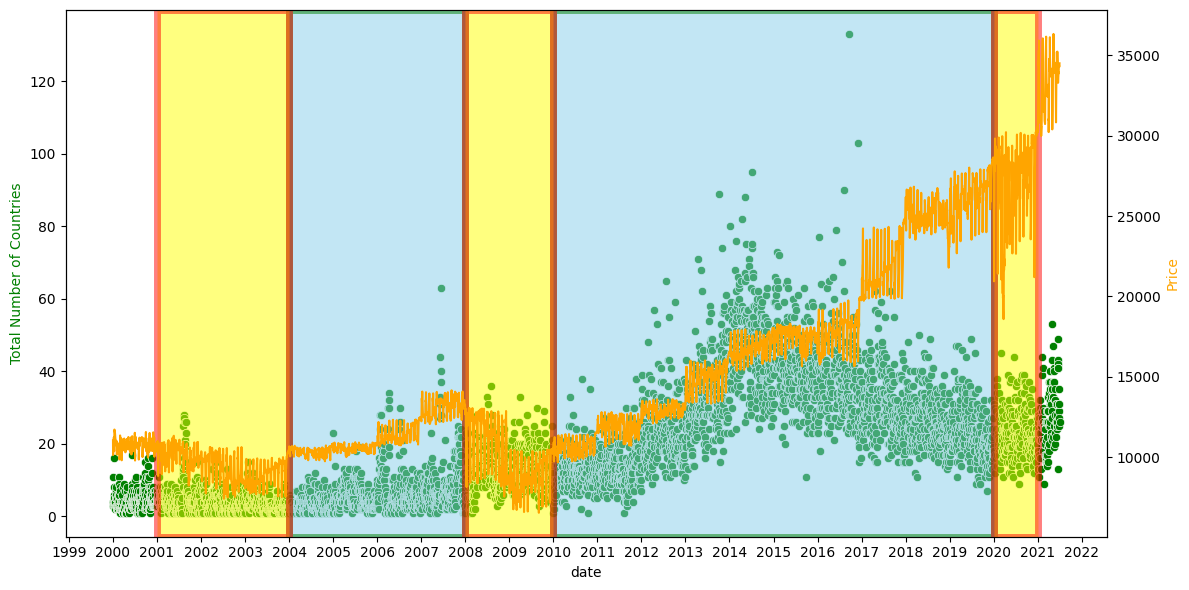

Layout of this report page (visuals, bound fields, positions):
{"tool":"tableau","page":{"name":"Dashboard 1","canvas":[1000,800],"ordinal":0},"visuals":[{"type":"worksheet","title":"Sheet 1","mark":"Automatic","rows":["latitude"],"cols":["longitude"],"box":[8,8,412,392]},{"type":"worksheet","title":"Sheet 1 (2)","mark":"Automatic","rows":["latitude"],"cols":["longitude"],"box":[420,8,412,392]},{"type":"legend","title":"Sheet 1","param":"[federated.0a733a2030vf771dsmdgn07bqao2].[none:AdhocCluster:1:ok]","box":[832,8,160,93]},{"type":"legend","title":"Sheet 1 (2)","param":"[federated.0a733a2030vf771dsmdgn07bqao2].[none:AdhocCluster:2:ok]","box":[832,101,160,51]},{"type":"legend","title":"Sheet 1 (3)","param":"[federated.0a733a2030vf771dsmdgn07bqao2].[none:AdhocCluster:3:ok]","box":[832,152,160,51]},{"type":"legend","title":"Sheet 1 (4)","param":"[federated.0a733a2030vf771dsmdgn07bqao2].[none:AdhocCluster:4:ok]","box":[832,203,160,51]},{"type":"worksheet","title":"Sheet 1 (3)","mark":"Automatic","rows":["latitude"],"cols":["longitude"],"box":[8,400,412,392]},{"type":"worksheet","title":"Sheet 1 (4)","mark":"Automatic","rows":["latitude"],"cols":["longitude"],"box":[420,400,412,392]}]}

Visuals, with their boxes on the page's 1000x800 design canvas (x1, y1, x2, y2). These are canvas units, not pixel positions in the 1189x590 screenshot, which may show the page scaled, cropped or inside an application window:
"Sheet 1" worksheet: [left=8, top=8, right=420, bottom=400]
"Sheet 1 (2)" worksheet: [left=420, top=8, right=832, bottom=400]
"Sheet 1" legend: [left=832, top=8, right=992, bottom=101]
"Sheet 1 (2)" legend: [left=832, top=101, right=992, bottom=152]
"Sheet 1 (3)" legend: [left=832, top=152, right=992, bottom=203]
"Sheet 1 (4)" legend: [left=832, top=203, right=992, bottom=254]
"Sheet 1 (3)" worksheet: [left=8, top=400, right=420, bottom=792]
"Sheet 1 (4)" worksheet: [left=420, top=400, right=832, bottom=792]
